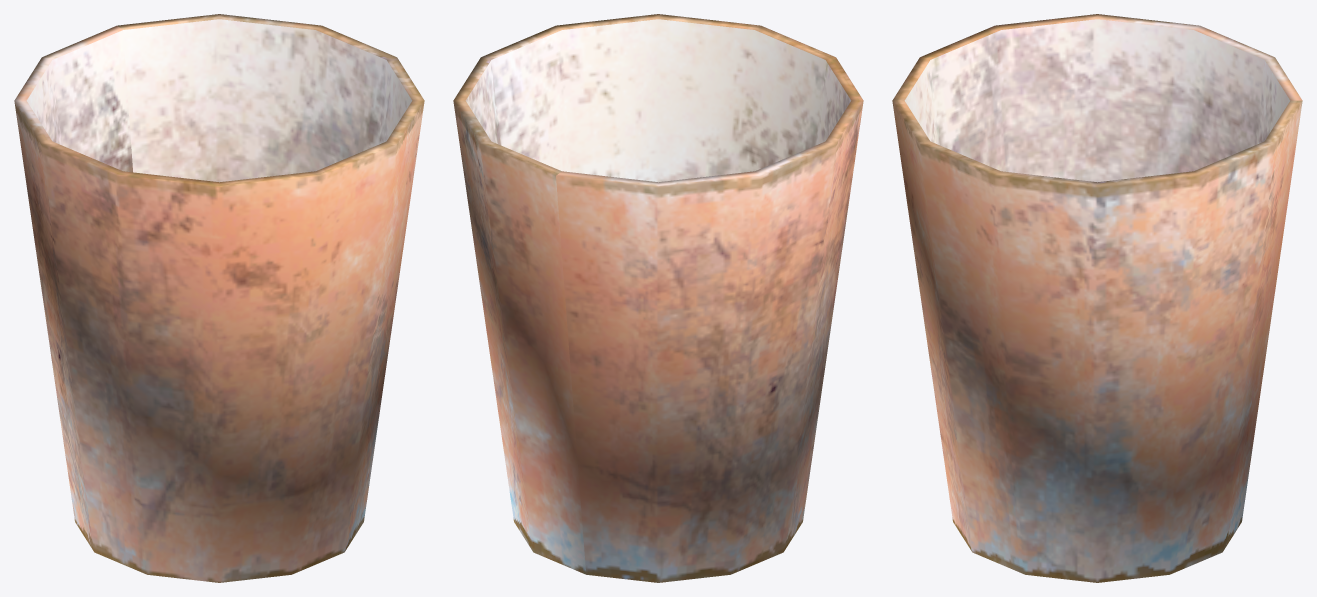
Rendered from tincanVase05.FBX.
The picture shows the model from 3 angles, left to right: view 1: azimuth 30°, elevation 25°; view 2: azimuth 150°, elevation 25°; view 3: azimuth 270°, elevation 25°; orthographic projection.
Parts seen in each view (by area): view 1: SM_TinCanVase05; view 2: SM_TinCanVase05; view 3: SM_TinCanVase05.
Part boxes in pixels (box(x1,y1,x2,y2)): SM_TinCanVase05: box(14, 14, 424, 582); SM_TinCanVase05: box(453, 14, 863, 582); SM_TinCanVase05: box(892, 14, 1302, 582).
Bounding box in the file's own units: 20.86 × 23.63 × 20.86.
1 material, 1 textured.
